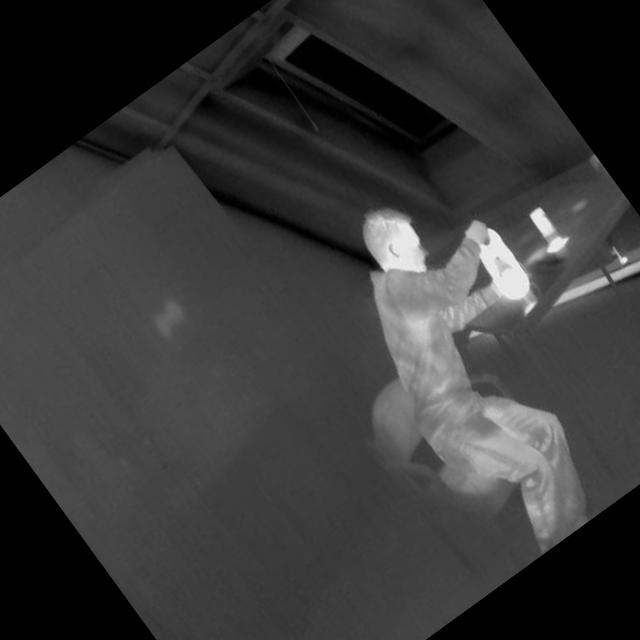person: (253, 148, 640, 598)
